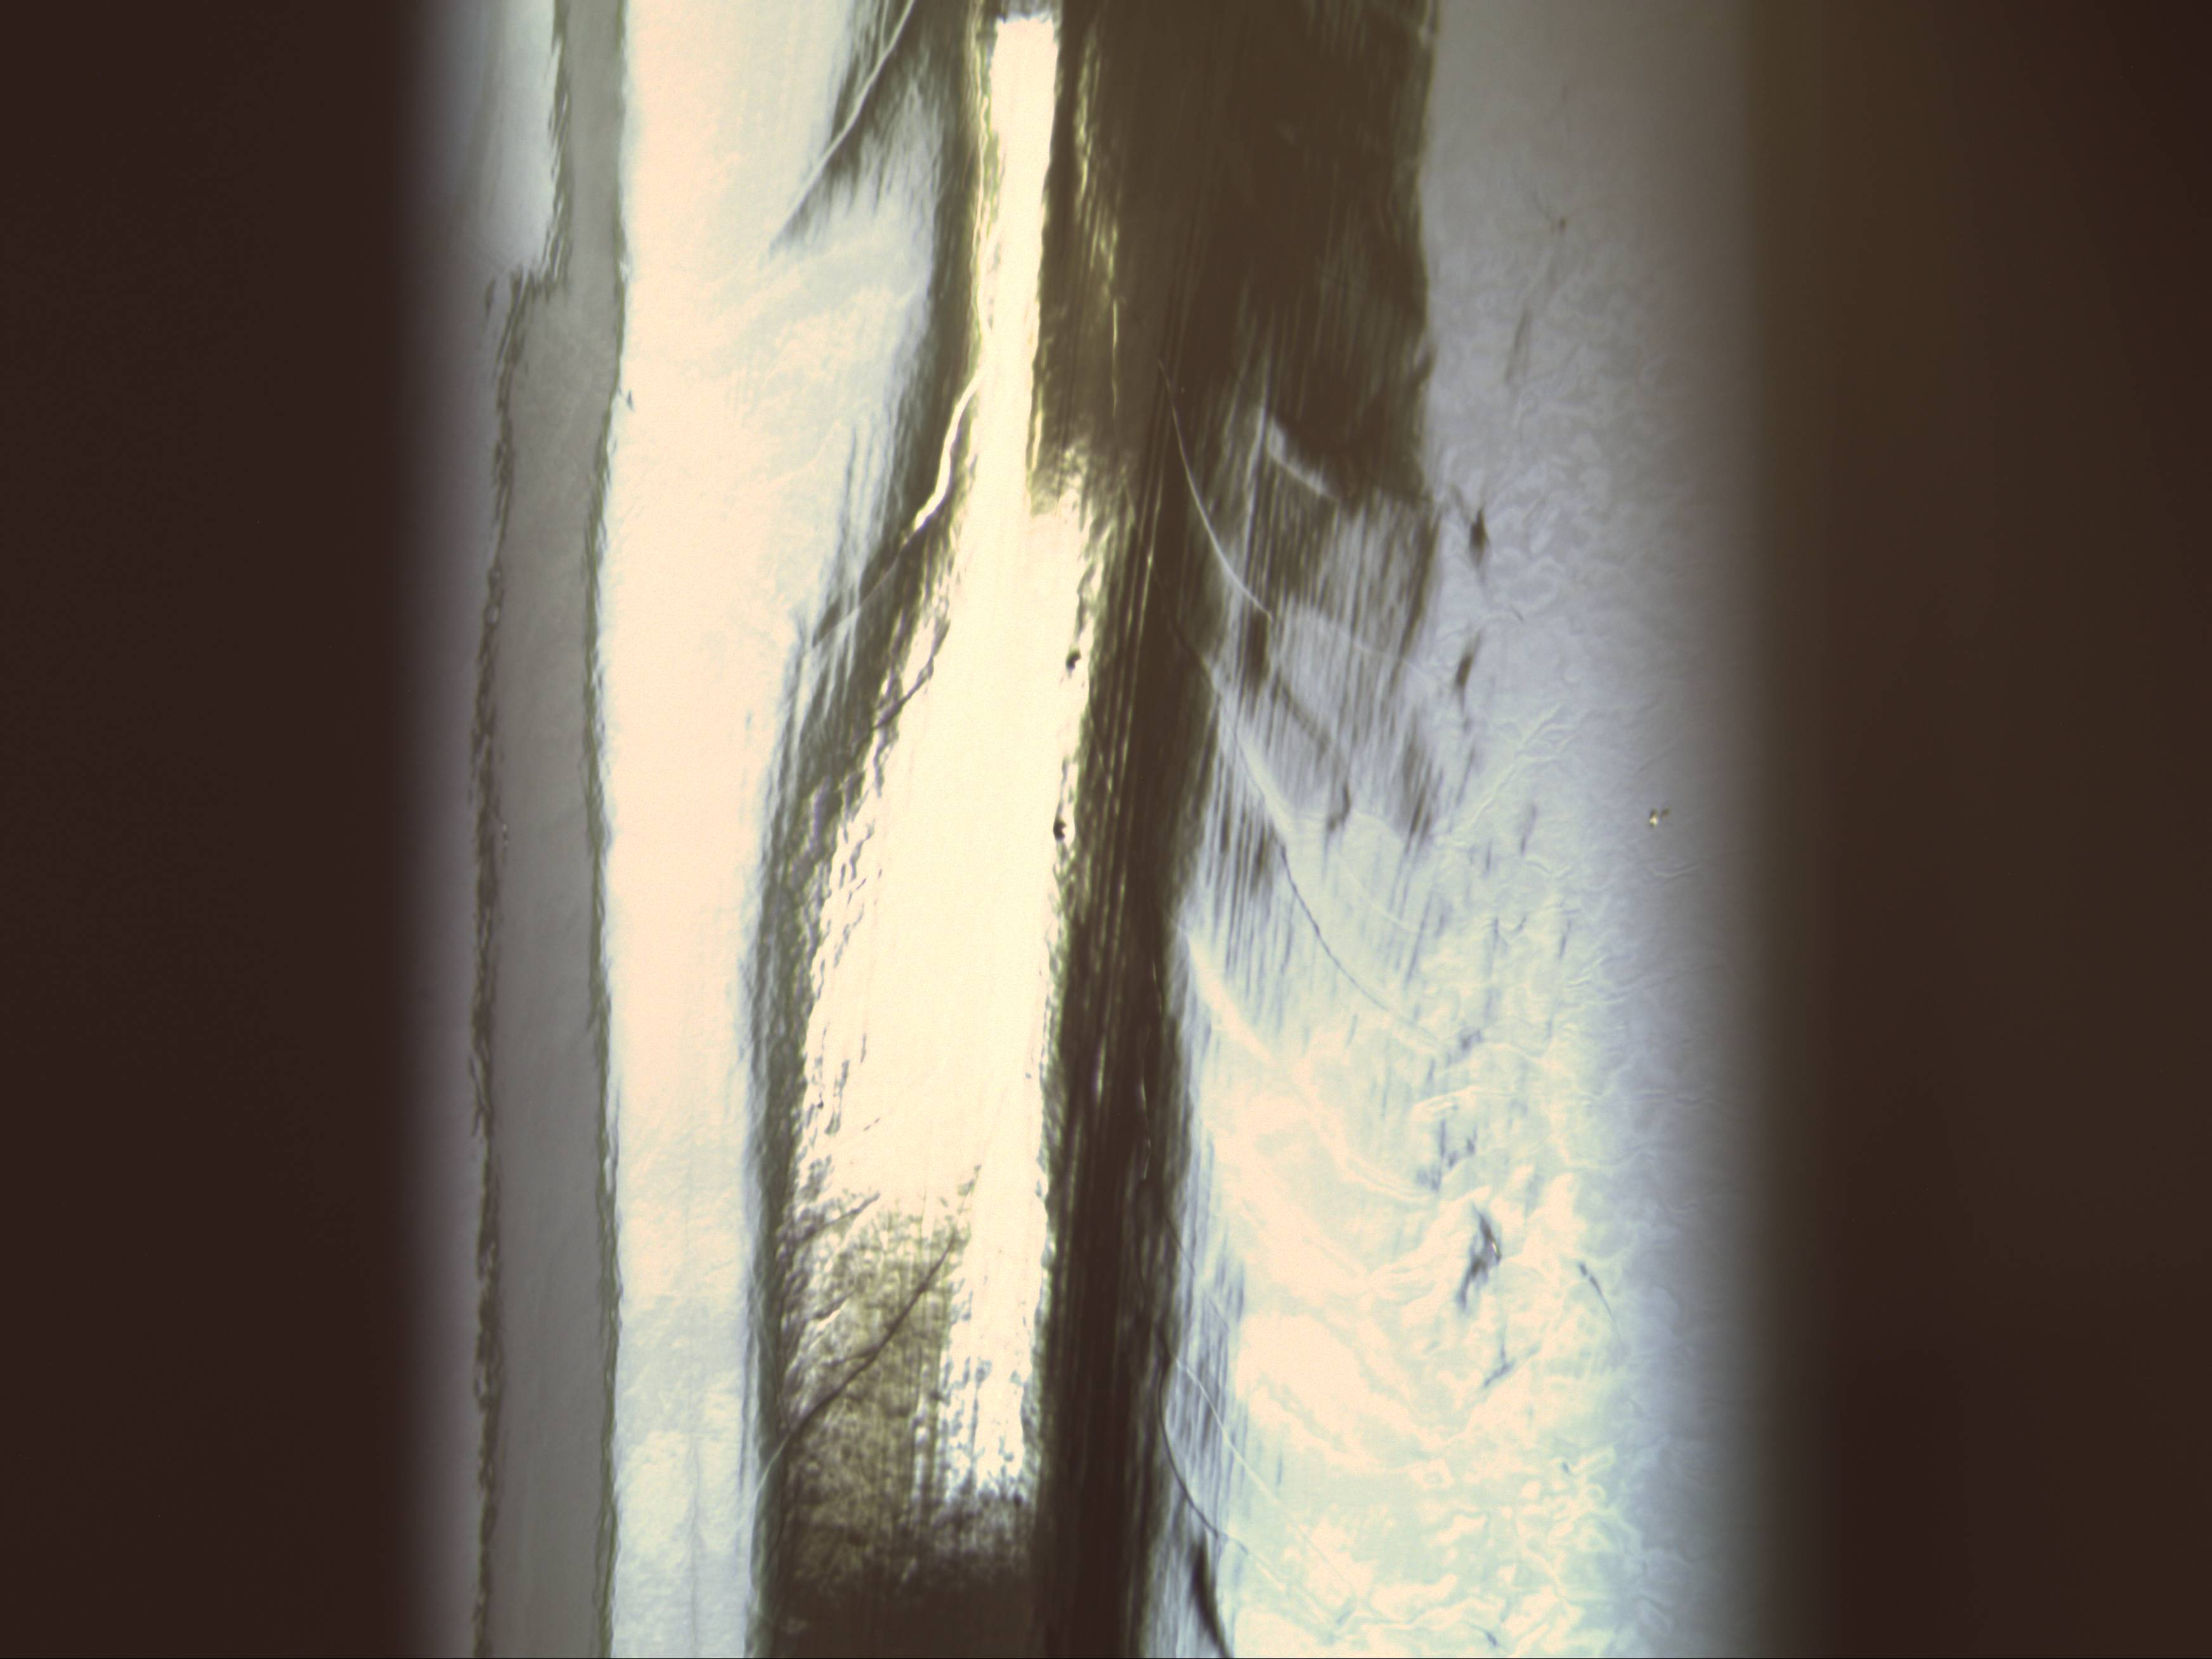defect: (1047, 809, 1075, 843)
